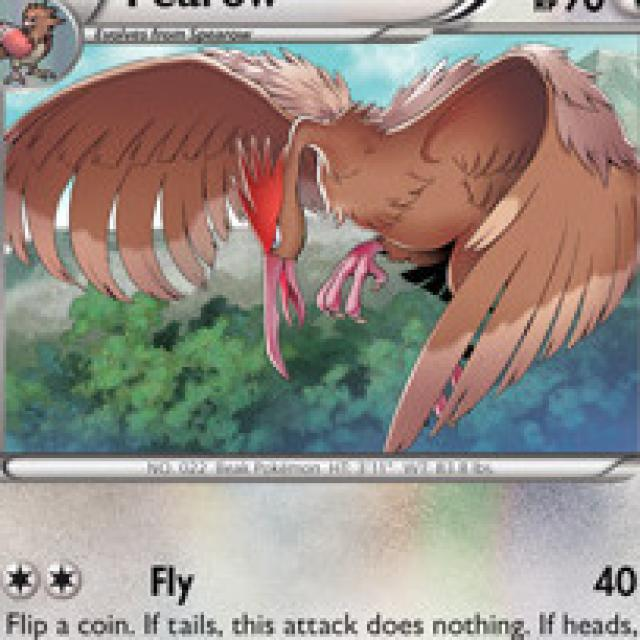Fearow: (135, 49, 554, 358)
